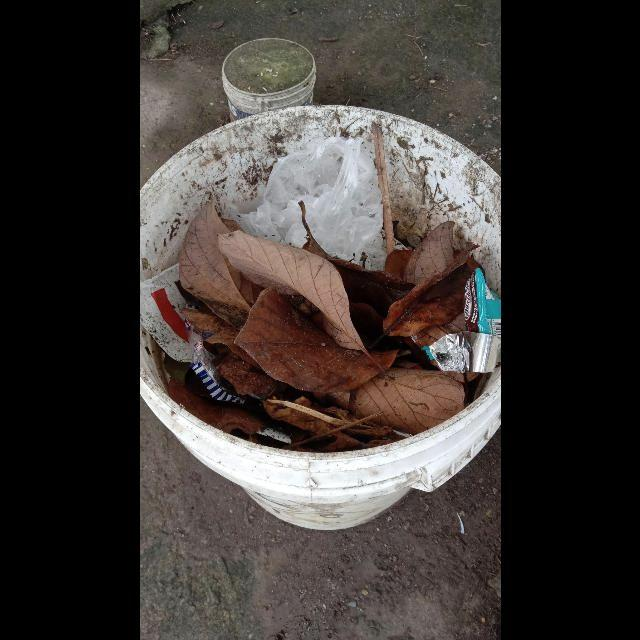food_wrapper: (139, 266, 246, 404), (430, 275, 501, 375)
plastic_bag: (236, 144, 384, 274)
